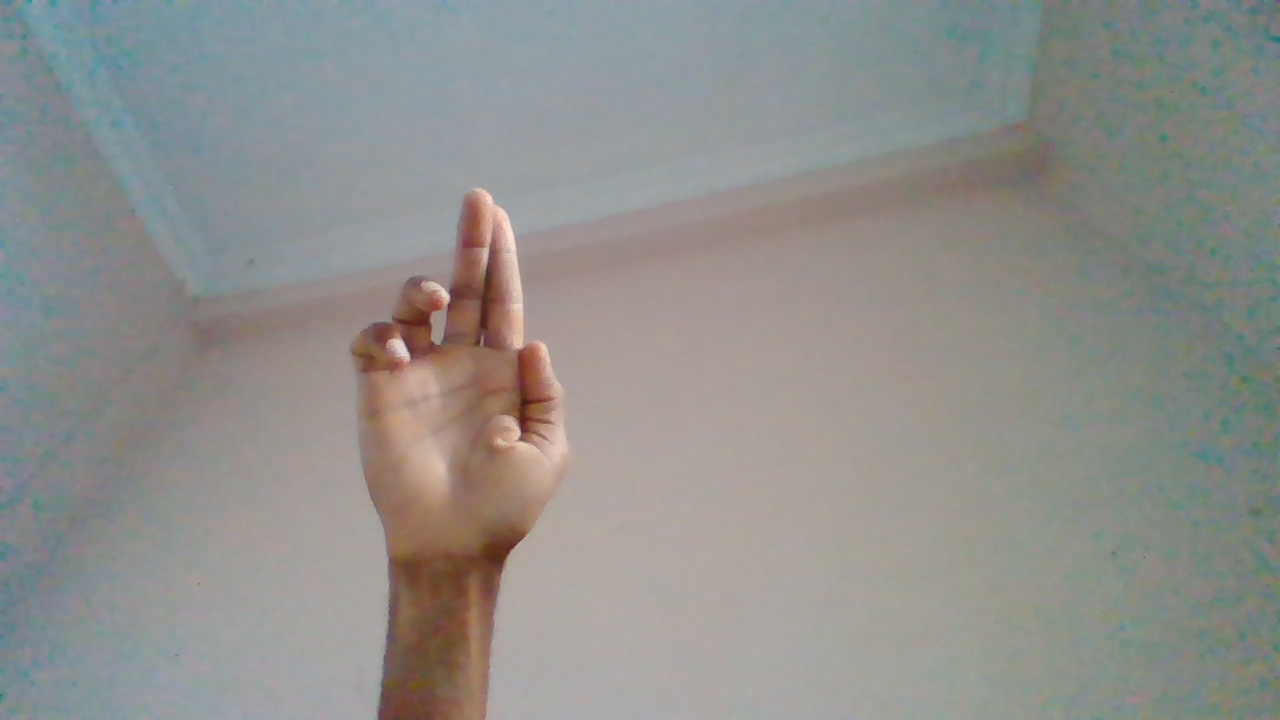gne: (356, 185, 568, 655)
